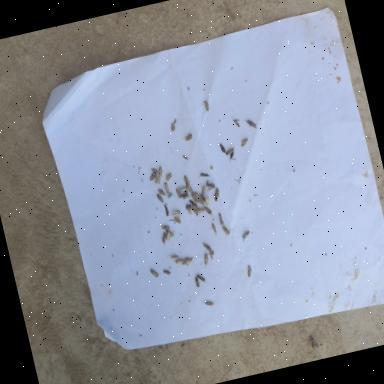pbw: (244, 116, 257, 130), (204, 178, 216, 192), (240, 230, 252, 243), (160, 232, 170, 247), (212, 187, 222, 202), (182, 130, 194, 142), (204, 204, 214, 218), (182, 174, 192, 188), (202, 252, 211, 267), (197, 273, 208, 285), (245, 264, 254, 278), (231, 114, 240, 128), (150, 267, 161, 278), (218, 212, 226, 227), (224, 145, 236, 155), (180, 190, 192, 200), (202, 300, 216, 308), (148, 171, 158, 182), (165, 227, 175, 238), (168, 252, 180, 261), (222, 224, 231, 236), (211, 222, 218, 237), (172, 208, 182, 218), (240, 138, 250, 148), (164, 172, 174, 182), (183, 256, 194, 265), (156, 192, 164, 204), (201, 170, 212, 178), (203, 195, 211, 206), (157, 165, 164, 177), (219, 142, 226, 154), (186, 184, 194, 194), (164, 203, 170, 216), (200, 185, 207, 196), (164, 181, 170, 193), (195, 192, 201, 204), (194, 276, 200, 288), (204, 100, 210, 112), (163, 268, 172, 276), (193, 206, 200, 216), (165, 230, 172, 240), (176, 187, 182, 198), (188, 204, 194, 215), (158, 188, 166, 196), (174, 216, 182, 224), (167, 191, 175, 199), (178, 186, 188, 192), (162, 224, 171, 230), (176, 258, 185, 264), (192, 192, 196, 202), (182, 154, 188, 160), (151, 167, 157, 173)
